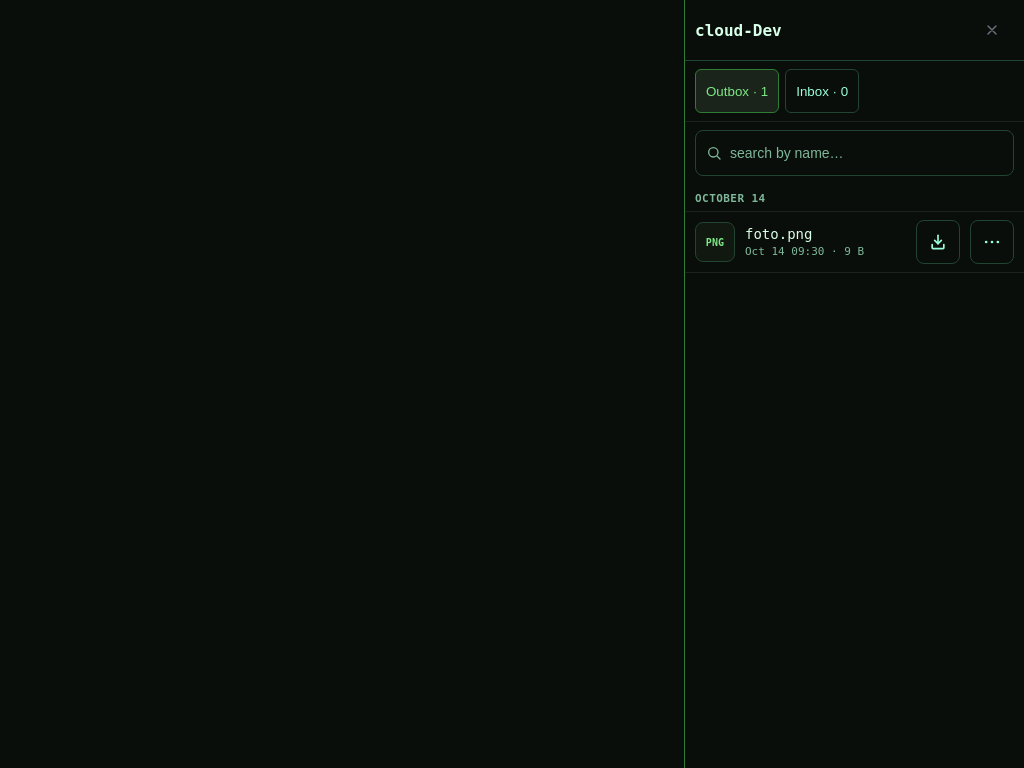
Test: FilesPanel busy — l'errore è un messaggio, non un lucchetto › l'esito informativo «anteprima non disponibile» non disabilita i bottoni
This screenshot has width=1024, height=768.
Expected: the text "foto.png" is shown, left=745, top=226, right=812, bottom=242
Step 1. Click the button titled "file actions" → click(992, 242), box left=970, top=220, right=1014, bottom=264
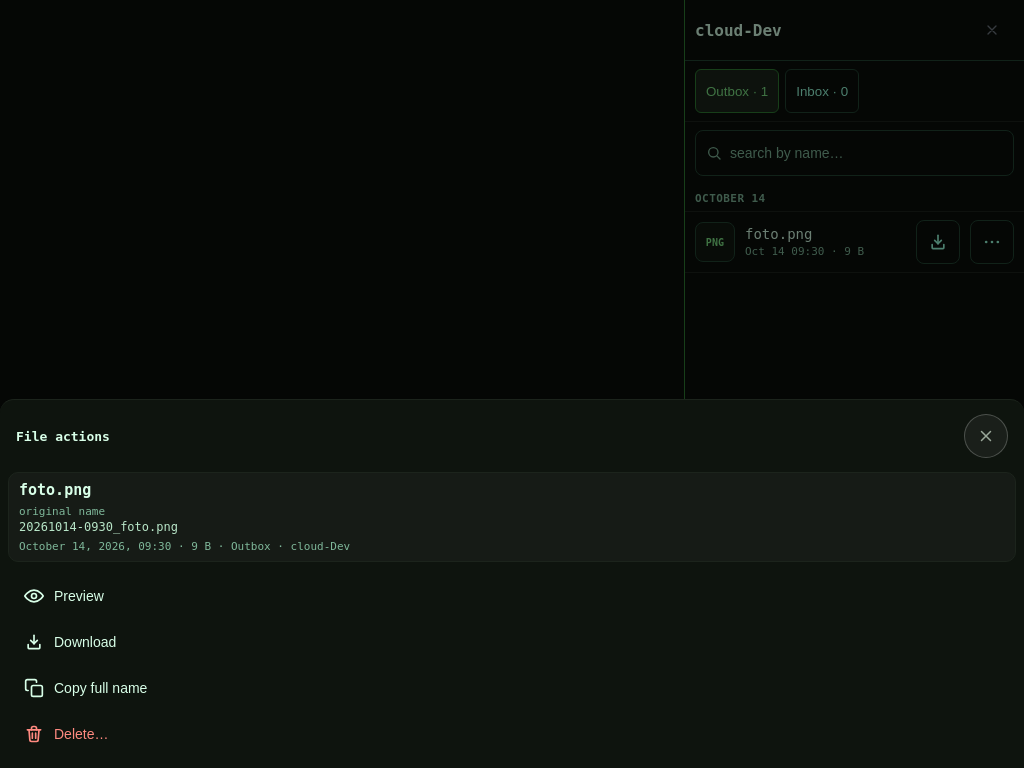
Expected: the element with test id "file-actions-sheet" is shown
Step 2. Click the menu item "Preview" → click(79, 596), box left=12, top=574, right=1012, bottom=618
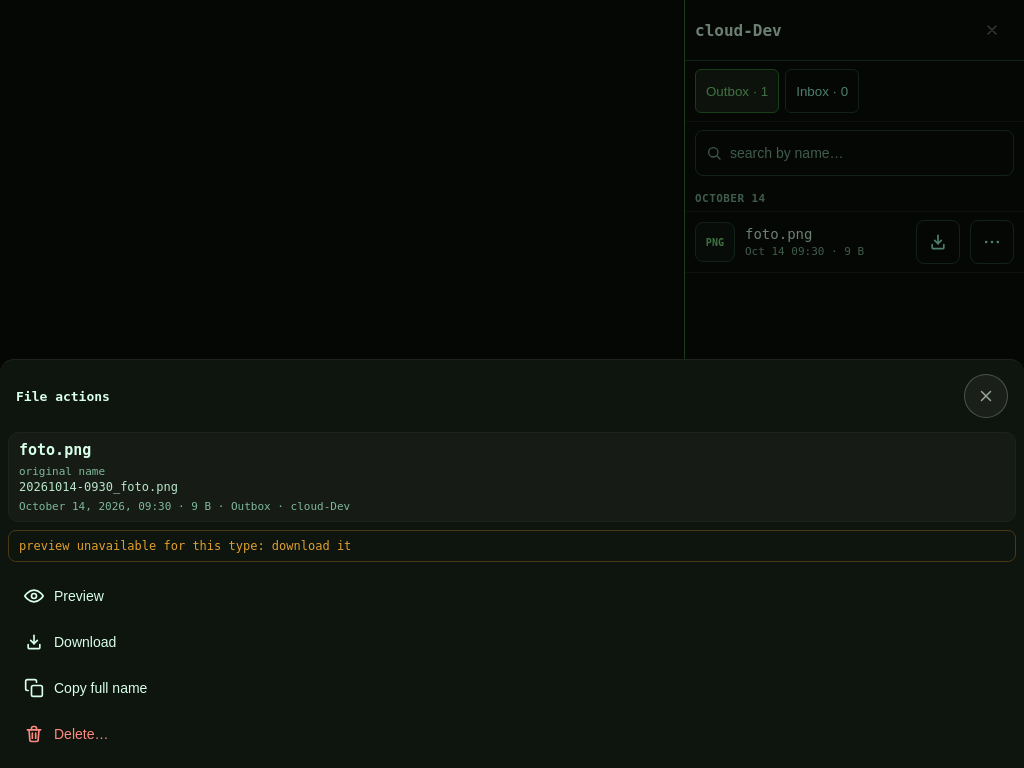
Expected: the menu item "Download" is enabled, left=12, top=620, right=1012, bottom=664
Expected: the menu item "Copy full name" is enabled, left=12, top=666, right=1012, bottom=710
Expected: the text "preview unavailable for this type: download it" is shown, left=8, top=530, right=1016, bottom=562
